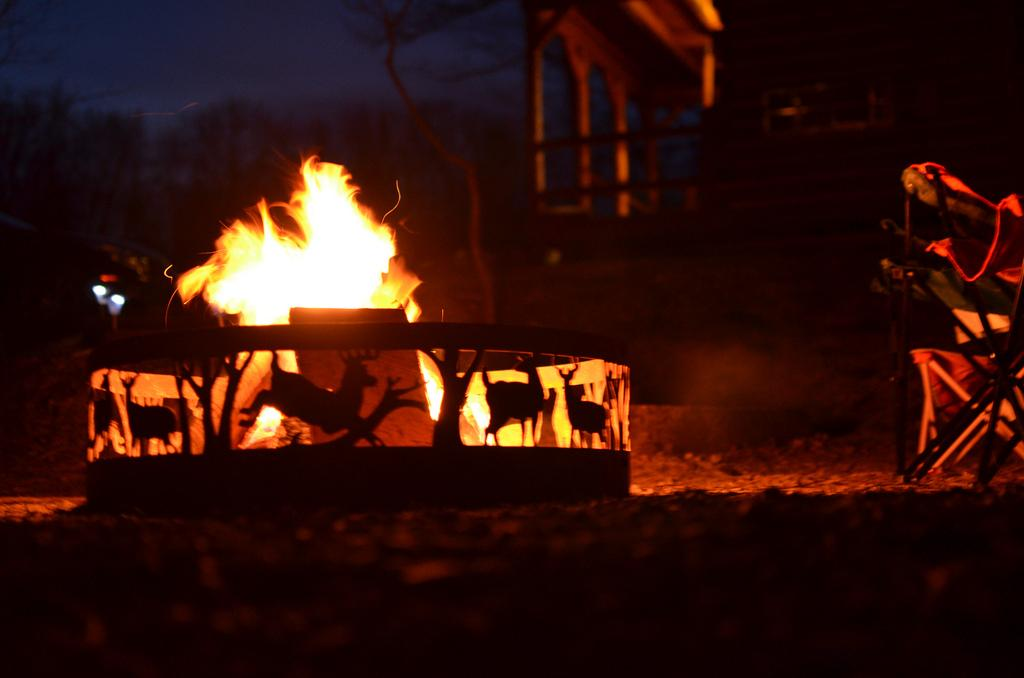fire: (193, 205, 398, 302)
